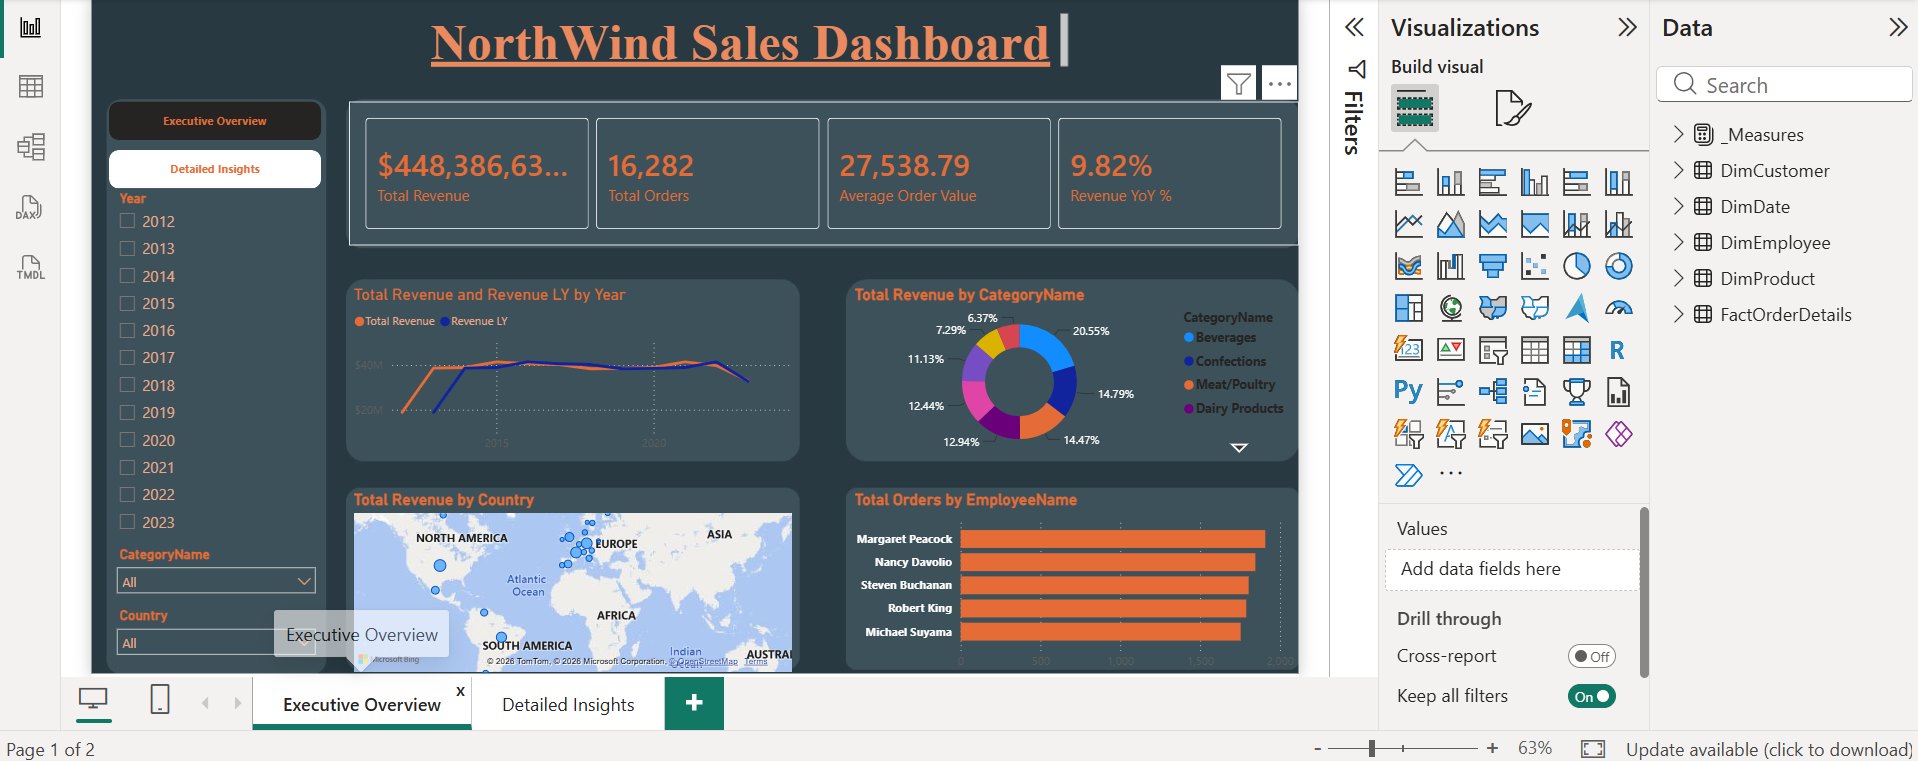

The dashboard page shown, as its layout file describes it:
{"tool":"powerbi","page":{"name":"Executive Overview","canvas":[1280,720],"ordinal":0},"visuals":[{"type":"cardVisual","fields":{"Data":["_Measures.Total Revenue","_Measures.Total Orders","_Measures.Average Order Value","_Measures.Revenue YoY %"]},"box":[273.6,109.8,1006.9,152.7],"z":0},{"type":"lineChart","fields":{"Category":["DimDate.Year"],"Y":["_Measures.Total Revenue","_Measures.Revenue LY"]},"box":[273.6,303.8,474,186.1],"z":1000},{"type":"clusteredBarChart","fields":{"Y":["_Measures.Total Orders"],"Category":["DimEmployee.EmployeeName"]},"box":[804.8,521.7,475.6,198.8],"z":2000},{"type":"map","fields":{"Size":["_Measures.Total Revenue"],"Category":["DimCustomer.Country"]},"box":[273.6,521.7,474,198.8],"z":3000},{"type":"donutChart","fields":{"Y":["_Measures.Total Revenue"],"Category":["DimProduct.CategoryName"]},"box":[804.8,303.8,475.6,186.1],"z":4000},{"type":"textbox","box":[354.7,11.1,686,68.4],"z":5000},{"type":"pageNavigator","box":[19.1,109.8,225.9,92.3],"z":6000},{"type":"slicer","fields":{"Values":["DimDate.Year"]},"box":[17.5,198.8,230.6,377],"z":7000},{"type":"slicer","fields":{"Values":["DimProduct.CategoryName"]},"box":[17.5,575.8,230.6,79.5],"z":8000},{"type":"slicer","fields":{"Values":["DimCustomer.Country"]},"box":[17.5,641,230.6,70],"z":9000}]}

Visuals, with their boxes on the page's 1280x720 design canvas (x1, y1, x2, y2). These are canvas units, not pixel positions in the 1918x761 screenshot, which may show the page scaled, cropped or inside an application window:
cardVisual - _Measures.Total Revenue x _Measures.Total Orders: 274, 110, 1280, 262
lineChart - DimDate.Year x _Measures.Total Revenue: 274, 304, 748, 490
clusteredBarChart - _Measures.Total Orders x DimEmployee.EmployeeName: 805, 522, 1280, 720
map - _Measures.Total Revenue x DimCustomer.Country: 274, 522, 748, 720
donutChart - _Measures.Total Revenue x DimProduct.CategoryName: 805, 304, 1280, 490
textbox: 355, 11, 1041, 80
pageNavigator: 19, 110, 245, 202
slicer - DimDate.Year: 18, 199, 248, 576
slicer - DimProduct.CategoryName: 18, 576, 248, 655
slicer - DimCustomer.Country: 18, 641, 248, 711
